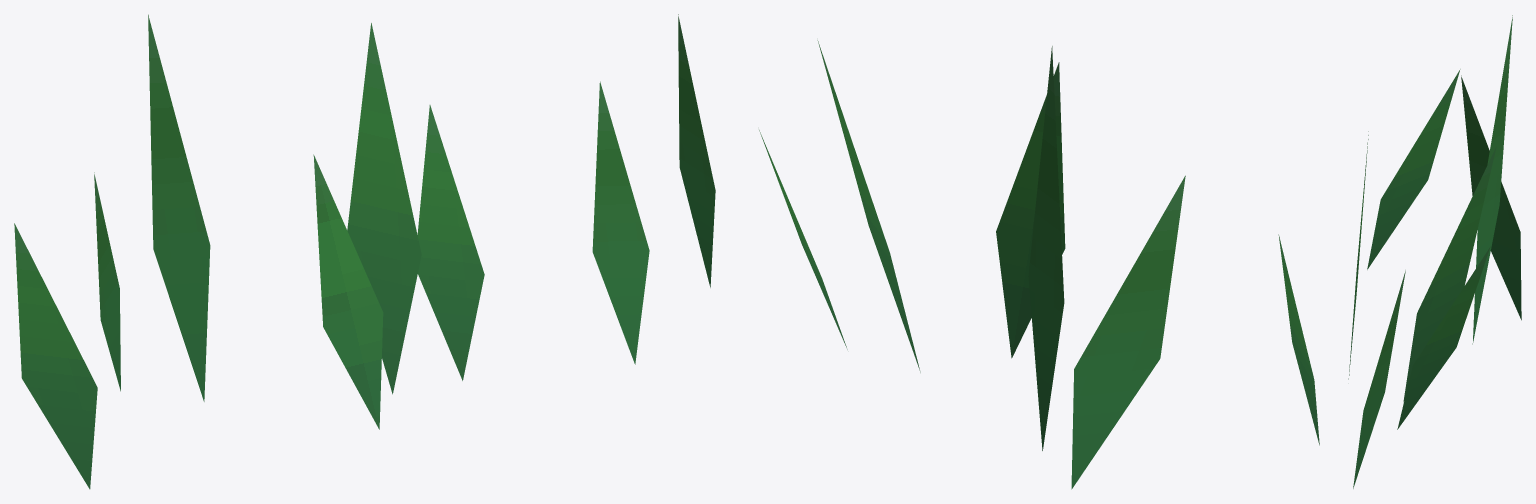
File: plants_me_main_grass02.gltf
3 views of the same model, side by side, from view 1: azimuth 30°, elevation 25°; view 2: azimuth 150°, elevation 25°; view 3: azimuth 270°, elevation 25° (orthographic). The views are drawn at different scales.
Visible parts, largest first — view 1: um_plants_me_main_grass02_model_plants_me_main_grass02_model; view 2: um_plants_me_main_grass02_model_plants_me_main_grass02_model; view 3: um_plants_me_main_grass02_model_plants_me_main_grass02_model.
Part boxes in pixels (left/top/right/bottom): um_plants_me_main_grass02_model_plants_me_main_grass02_model: left=14, top=14, right=649, bottom=489; um_plants_me_main_grass02_model_plants_me_main_grass02_model: left=678, top=14, right=1319, bottom=489; um_plants_me_main_grass02_model_plants_me_main_grass02_model: left=1348, top=15, right=1521, bottom=488.
Bounding box in the file's own units: 0.5503 × 0.3383 × 0.1672.
1 material, 1 textured.
